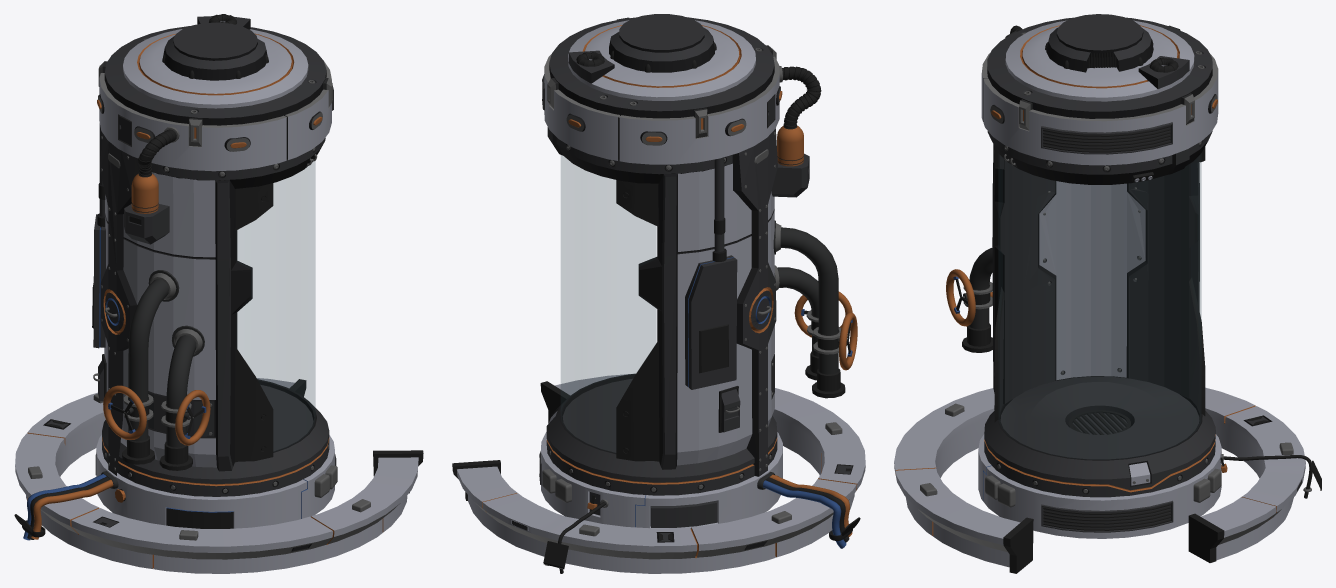
Rendered from Cap.FBX.
3 renders of one model, left to right at view 1: azimuth 30°, elevation 25°; view 2: azimuth 150°, elevation 25°; view 3: azimuth 270°, elevation 25°, orthographic.
Parts seen in each view (by area): view 1: Capsule:polySurface81, Capsule:polySurface92, Capsule:Glass, Capsule:polySurface106, Capsule:polySurface89, Capsule:polySurface115, Capsule:polySurface108, Capsule:polySurface91, Capsule:polySurface107, Capsule:pCylinder106, Capsule:polySurface94, Capsule:polySurface54 (×2) (+9 smaller); view 2: Capsule:polySurface81, Capsule:polySurface92, Capsule:Glass, Capsule:polySurface89, Capsule:polySurface106, Capsule:polySurface91, Capsule:polySurface115, Capsule:polySurface108, Capsule:polySurface107, Capsule:polySurface94, Capsule:polySurface14, Capsule:pCylinder106 (+13 smaller); view 3: Capsule:polySurface92, Capsule:polySurface89, Capsule:polySurface81, Capsule:polySurface106, Capsule:polySurface108, Capsule:polySurface115, Capsule:polySurface107, Capsule:pCylinder106, Capsule:polySurface104, Capsule:polySurface29 (×2), Capsule:polySurface94, Capsule:Glass (+5 smaller).
Boxes of the visible parts, bbox=[...] form: Capsule:polySurface81: bbox=[15, 378, 418, 573]; Capsule:polySurface92: bbox=[104, 172, 252, 471]; Capsule:Glass: bbox=[237, 161, 315, 415]; Capsule:polySurface106: bbox=[99, 60, 331, 171]; Capsule:polySurface89: bbox=[102, 379, 329, 496]; Capsule:polySurface115: bbox=[95, 435, 334, 528]; Capsule:polySurface108: bbox=[123, 16, 308, 108]; Capsule:polySurface91: bbox=[100, 133, 139, 475]; Capsule:polySurface107: bbox=[104, 26, 326, 125]; Capsule:pCylinder106: bbox=[163, 22, 267, 80]; Capsule:polySurface94: bbox=[235, 183, 273, 462]; Capsule:polySurface54 (×2): bbox=[128, 279, 196, 447]; Capsule:polySurface81: bbox=[457, 373, 865, 573]; Capsule:polySurface92: bbox=[638, 163, 774, 469]; Capsule:Glass: bbox=[561, 155, 656, 411]; Capsule:polySurface89: bbox=[546, 373, 777, 495]; Capsule:polySurface106: bbox=[544, 54, 779, 164]; Capsule:polySurface91: bbox=[732, 128, 777, 476]; Capsule:polySurface115: bbox=[541, 432, 782, 528]; Capsule:polySurface108: bbox=[568, 20, 755, 100]; Capsule:polySurface107: bbox=[549, 17, 774, 118]; Capsule:polySurface94: bbox=[616, 180, 659, 461]; Capsule:polySurface14: bbox=[685, 255, 737, 389]; Capsule:pCylinder106: bbox=[609, 14, 714, 72]; Capsule:polySurface92: bbox=[992, 144, 1199, 404]; Capsule:polySurface89: bbox=[984, 376, 1215, 497]; Capsule:polySurface81: bbox=[894, 387, 1305, 567]; Capsule:polySurface106: bbox=[981, 53, 1218, 165]; Capsule:polySurface108: bbox=[1005, 20, 1194, 101]; Capsule:polySurface115: bbox=[978, 434, 1221, 538]; Capsule:polySurface107: bbox=[987, 17, 1212, 118]; Capsule:pCylinder106: bbox=[1046, 14, 1153, 72]; Capsule:polySurface104: bbox=[987, 131, 1212, 184]; Capsule:polySurface29 (×2): bbox=[1041, 122, 1173, 532]; Capsule:polySurface94: bbox=[994, 146, 1205, 422]; Capsule:Glass: bbox=[998, 161, 1201, 358].
Bounding box in the file's own units: 44.47 × 54.94 × 45.48.
